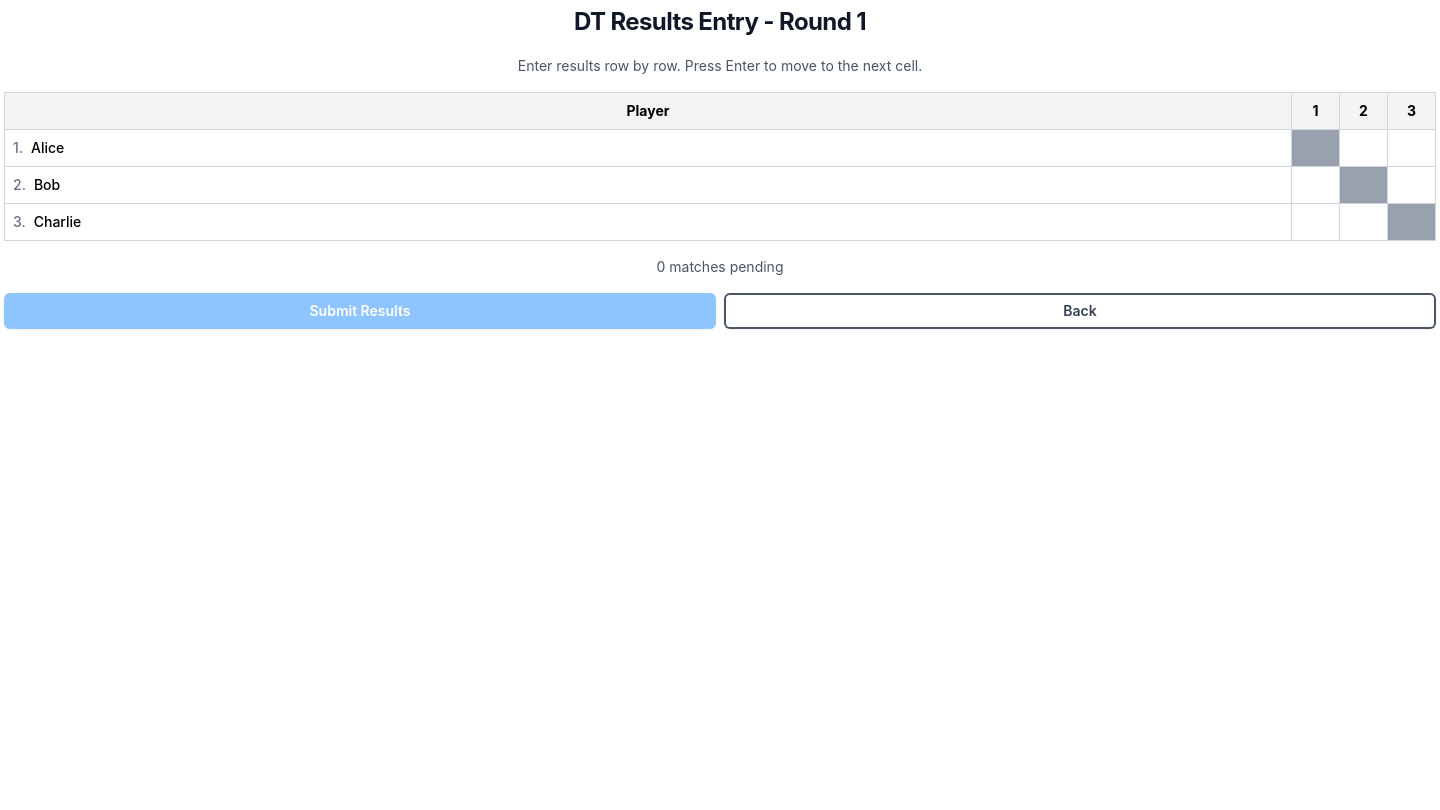
BulkMatchEntry › Draw Detection › should close dialog and set winner when player is selected
This screenshot has width=1440, height=810.
// Enter equal scores
In the 1st number field: point(1364, 148) [1340, 136, 1387, 160], type "5"
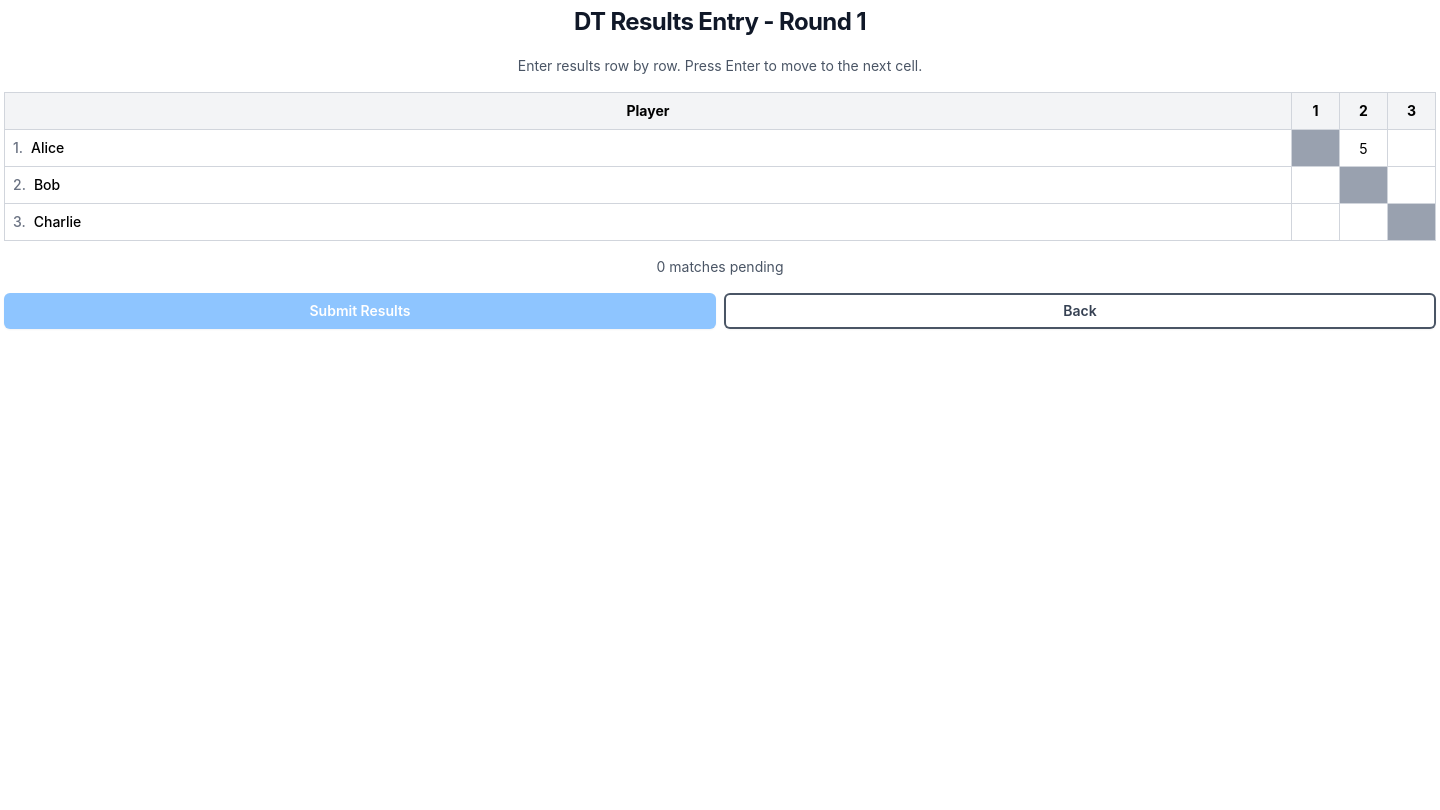
In the 3rd number field: point(1316, 185) [1292, 172, 1339, 198], type "5"
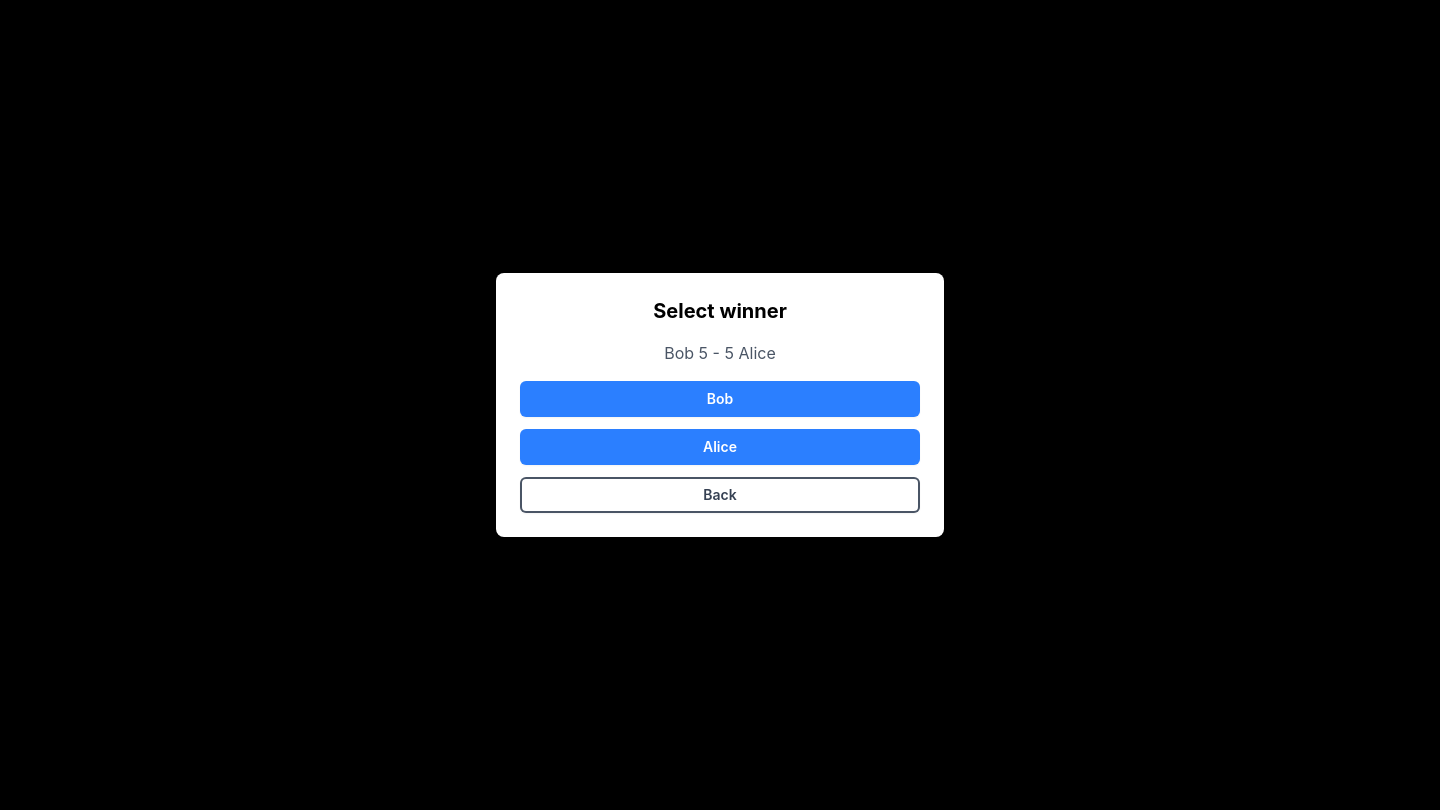
Check: the heading "Select winner" is shown, box [653, 299, 787, 323]
// Select Alice as winner
Click the button "Alice": point(720, 447) [520, 429, 920, 465]
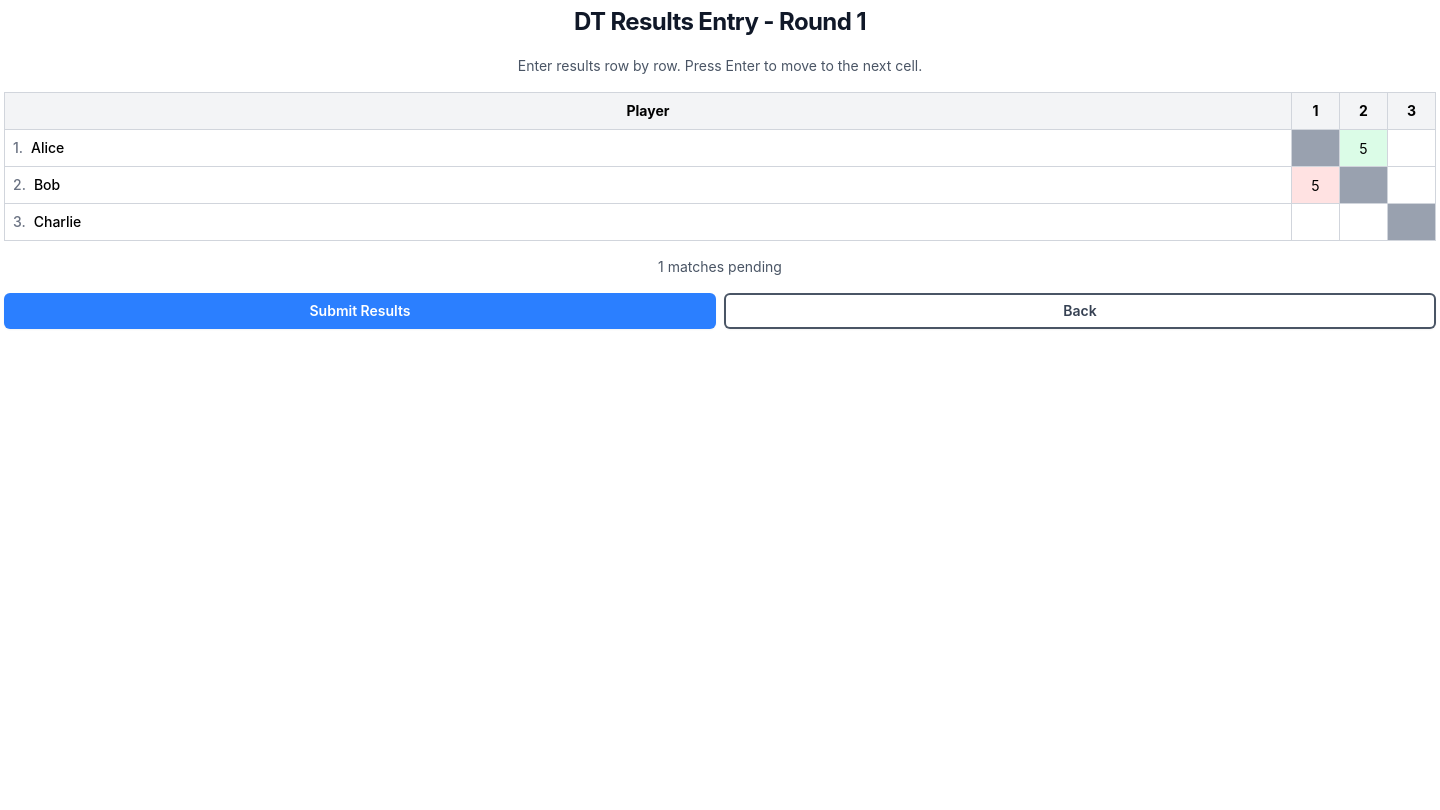
Check: the heading "Select winner" is gone
